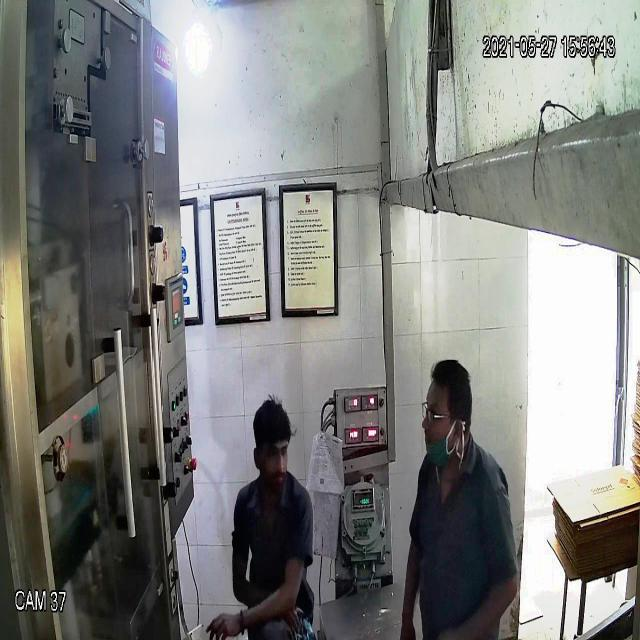glasses: (421, 398, 463, 431)
no-glass: (252, 442, 290, 469)
